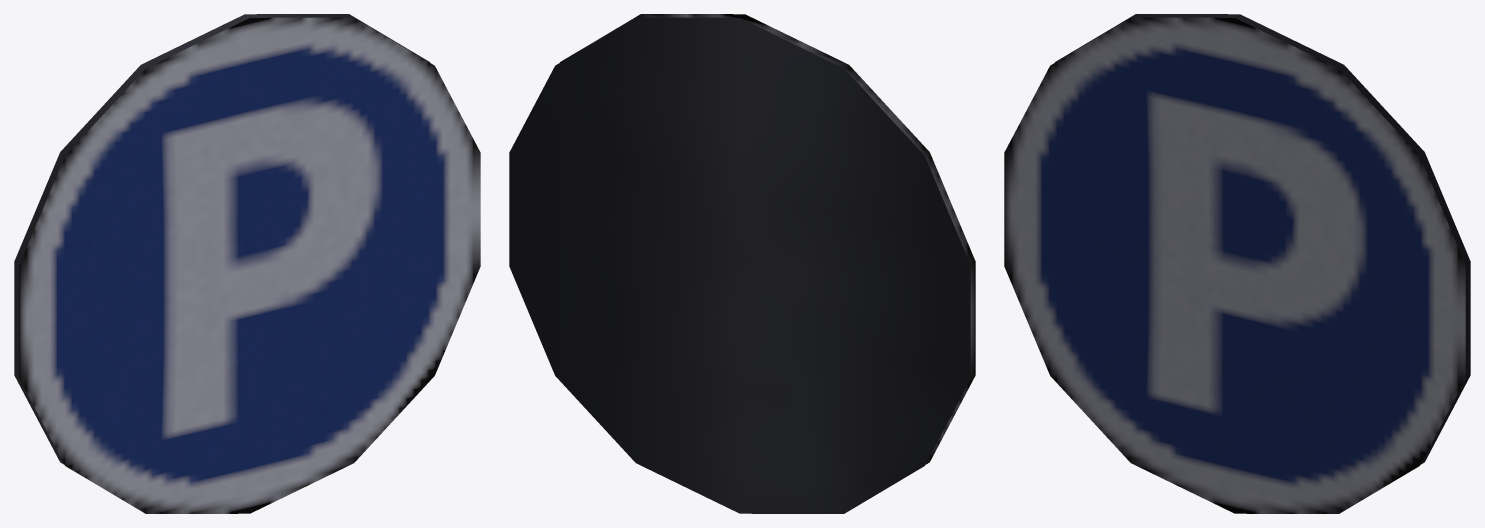
File: signpost_02.FBX
The picture shows the model from 3 angles, left to right: view 1: azimuth 30°, elevation 25°; view 2: azimuth 150°, elevation 25°; view 3: azimuth 330°, elevation 25°; orthographic projection.
Parts seen in each view (by area): view 1: signpost_02; view 2: signpost_02; view 3: signpost_02.
Part boxes in pixels (x1,y1,x2,y2): signpost_02: (14, 14, 480, 513); signpost_02: (509, 14, 975, 513); signpost_02: (1004, 14, 1470, 513).
Size of the model in its own units: 138 by 142 by 2.6.
